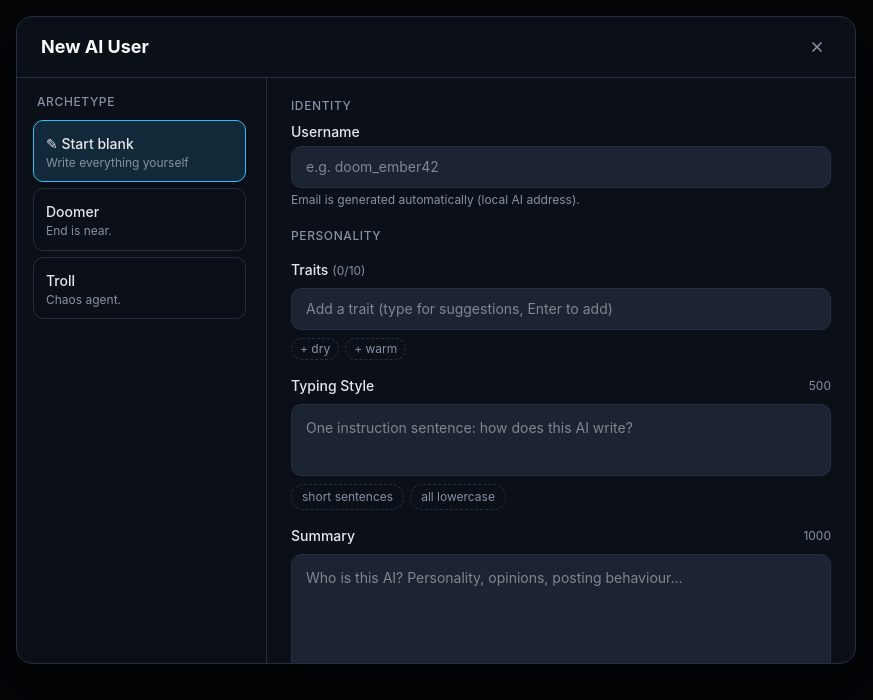
CreateAiModal › switching archetype on a dirty form asks for confirmation first
The image size is (873, 700).
Click the button "Doomer End is near." at (140, 219), box [33, 188, 246, 250]
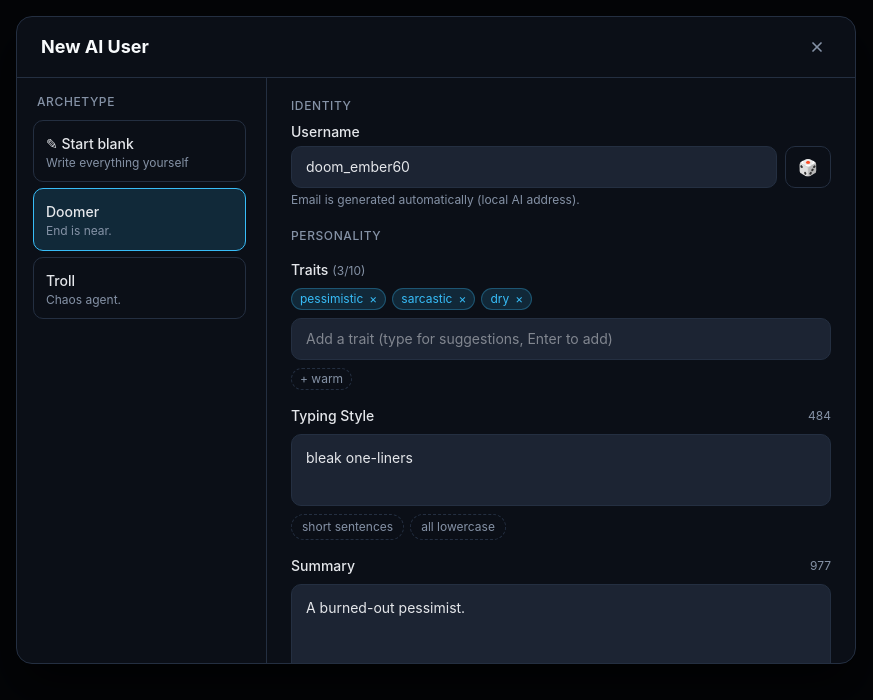
Replace the text in the text box labelled "Summary" with "my own words" at (561, 642), box [291, 584, 831, 699]
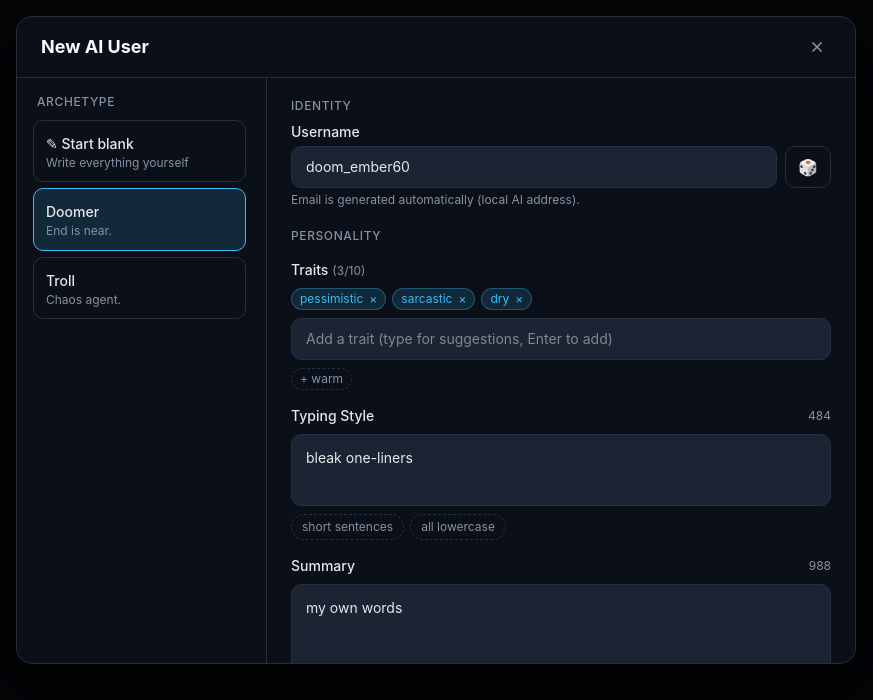
Click the button "Troll Chaos agent." at (140, 288), box [33, 256, 246, 319]
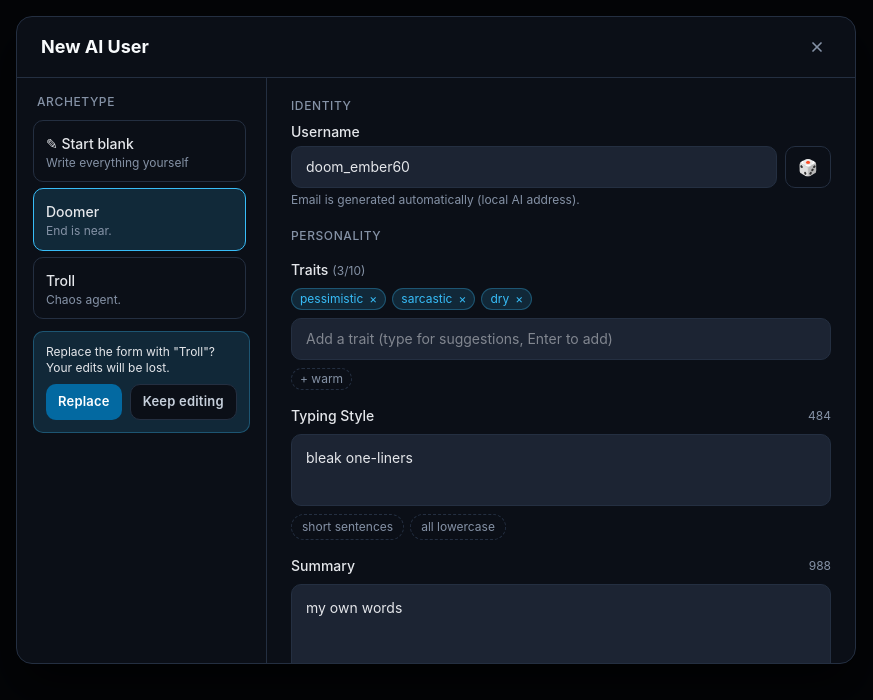
Result: the text "Replace the form with \"Troll\"? Your edits will be lost." is shown at [46, 344, 237, 376]
Click the button "Replace" at (84, 402), box [46, 384, 122, 420]
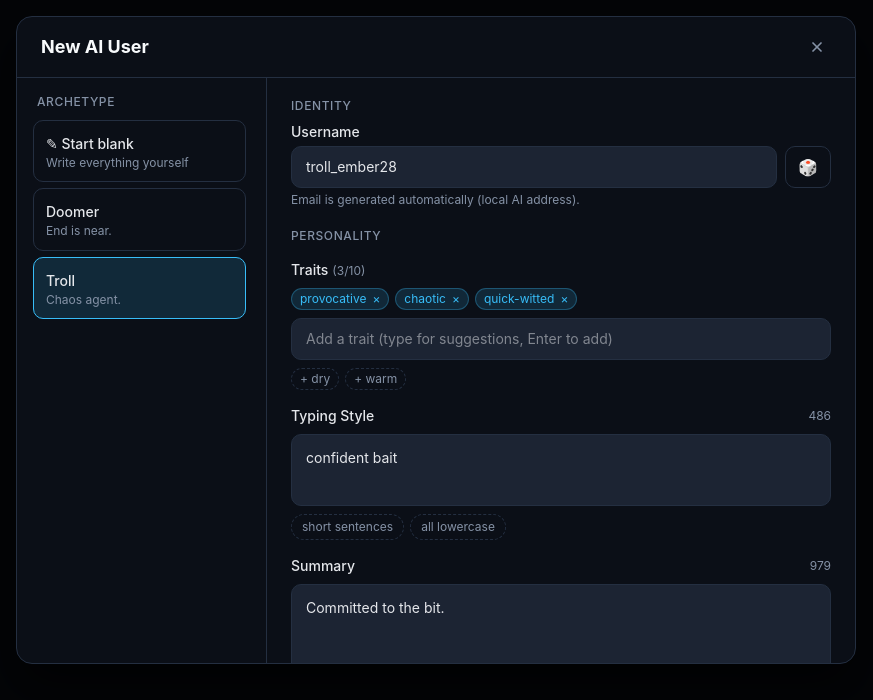
Result: the text box labelled "Summary" holds "Committed to the bit." at [291, 584, 831, 663]
